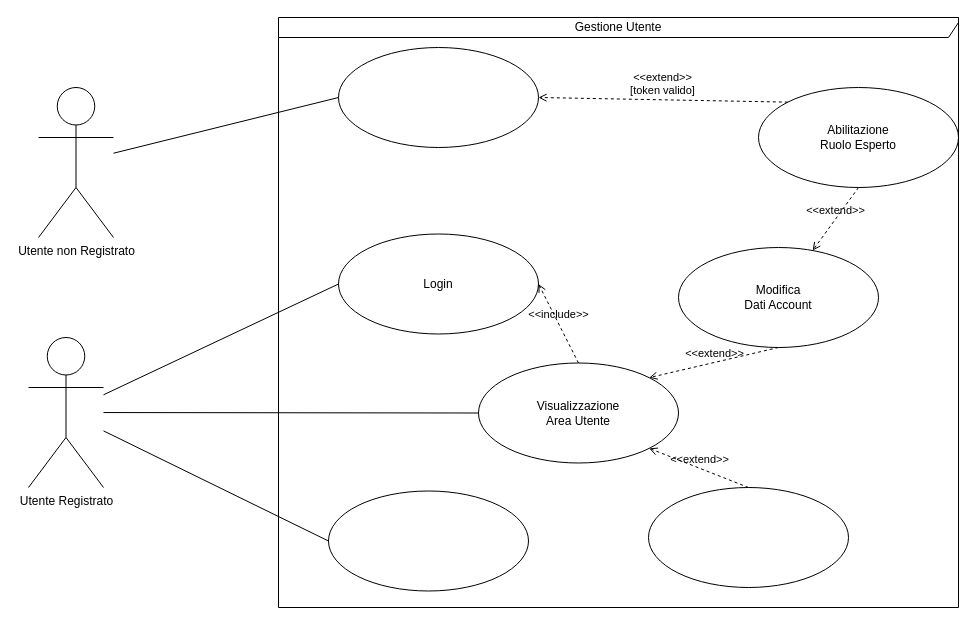
The diagram is 976 pixels wide and 625 high, and some of its shapes have lost their labels. The box of each missing label's shape, as (x1, y1, x2, y2) in pixels:
Cancellazione Account: (648, 486, 848, 588)
Logout: (328, 490, 528, 591)
Registrazione Utente: (338, 46, 538, 148)
